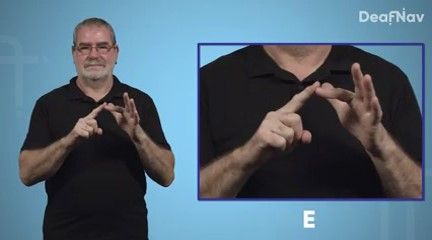E: (252, 59, 391, 160), (69, 91, 143, 146)
